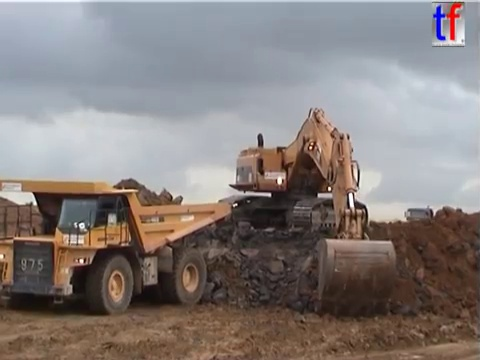excavator: (215, 105, 402, 318)
truck: (1, 177, 233, 317), (402, 205, 456, 233)
